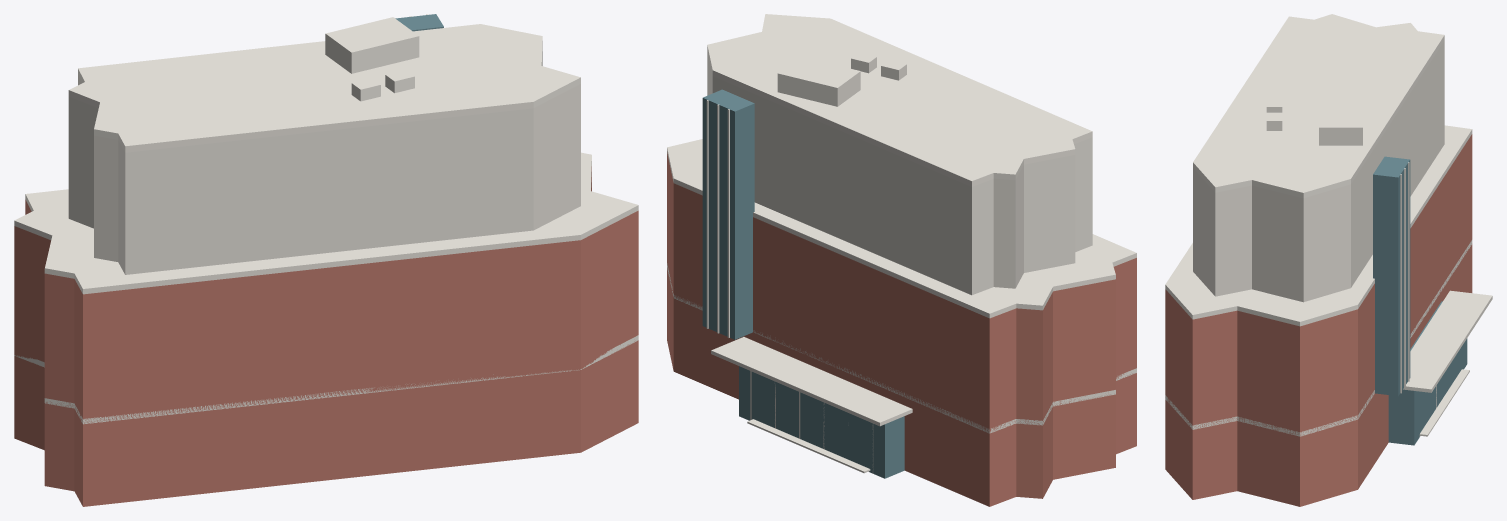
3 renders of one model, left to right at view 1: azimuth 30°, elevation 25°; view 2: azimuth 150°, elevation 25°; view 3: azimuth 270°, elevation 25°, orthographic. The views are drawn at different scales.
Visible parts, largest first — view 1: NWH_lower, NWH_upper, NWH_podium, NWH_roof, NWH_band_1, NWH_roof_plant, NWH_band_0; view 2: NWH_lower, NWH_upper, NWH_roof, NWH_podium, NWH_core, NWH_band_1, NWH_atrium, NWH_canopy, NWH_roof_plant, NWH_band_0, NWH_step_1, NWH_core_mull_1 (+2 smaller); view 3: NWH_lower, NWH_roof, NWH_upper, NWH_podium, NWH_band_1, NWH_core, NWH_canopy, NWH_atrium, NWH_roof_plant, NWH_band_0, NWH_step_1, NWH_core_mull_0 (+2 smaller).
Boxes of the visible parts, bbox=[...] form: NWH_lower: bbox=[14, 166, 638, 423]; NWH_upper: bbox=[68, 47, 580, 274]; NWH_podium: bbox=[14, 340, 638, 506]; NWH_roof: bbox=[68, 24, 580, 152]; NWH_band_1: bbox=[14, 152, 638, 294]; NWH_roof_plant: bbox=[325, 17, 419, 73]; NWH_band_0: bbox=[14, 335, 638, 424]; NWH_lower: bbox=[667, 152, 1136, 433]; NWH_upper: bbox=[707, 51, 1092, 295]; NWH_roof: bbox=[707, 14, 1092, 186]; NWH_podium: bbox=[667, 268, 1136, 506]; NWH_core: bbox=[702, 89, 754, 339]; NWH_band_1: bbox=[667, 139, 1136, 318]; NWH_atrium: bbox=[739, 366, 904, 478]; NWH_canopy: bbox=[711, 337, 912, 426]; NWH_roof_plant: bbox=[777, 56, 860, 106]; NWH_band_0: bbox=[667, 263, 1136, 433]; NWH_step_1: bbox=[747, 419, 870, 473]; NWH_core_mull_1: bbox=[717, 104, 719, 333]; NWH_lower: bbox=[1165, 134, 1472, 436]; NWH_roof: bbox=[1193, 14, 1444, 198]; NWH_upper: bbox=[1193, 41, 1444, 302]; NWH_podium: bbox=[1165, 244, 1472, 506]; NWH_band_1: bbox=[1165, 125, 1472, 326]; NWH_core: bbox=[1373, 156, 1410, 396]; NWH_canopy: bbox=[1403, 290, 1492, 392]; NWH_atrium: bbox=[1388, 301, 1467, 445]; NWH_roof_plant: bbox=[1319, 99, 1362, 145]; NWH_band_0: bbox=[1165, 240, 1472, 436]; NWH_step_1: bbox=[1419, 369, 1469, 436]; NWH_core_mull_0: bbox=[1400, 174, 1401, 393].
Bounding box in the file's own units: 46.67 × 31.15 × 29.58.
